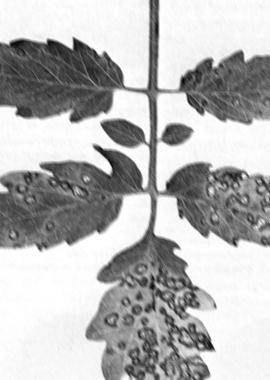Tomato Septoria leaf spot: (89, 235, 222, 380), (0, 147, 145, 263), (0, 26, 130, 126), (163, 162, 270, 247), (184, 30, 270, 131)
